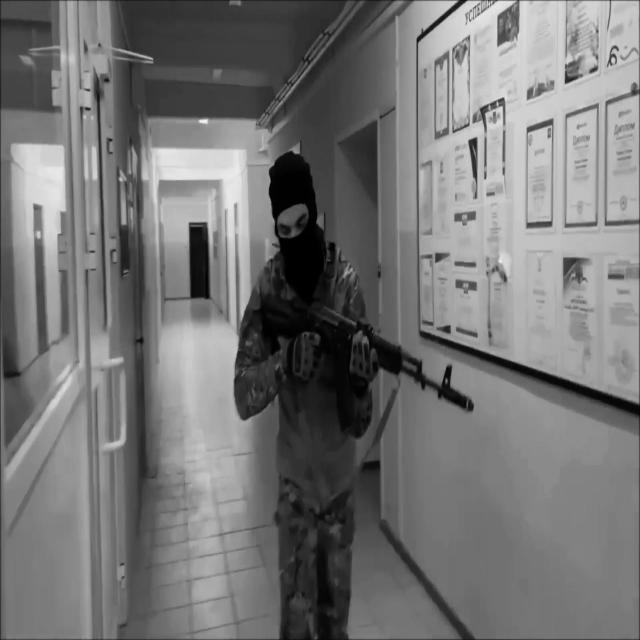gun: (260, 288, 476, 438)
person with a gun: (234, 147, 476, 640)
